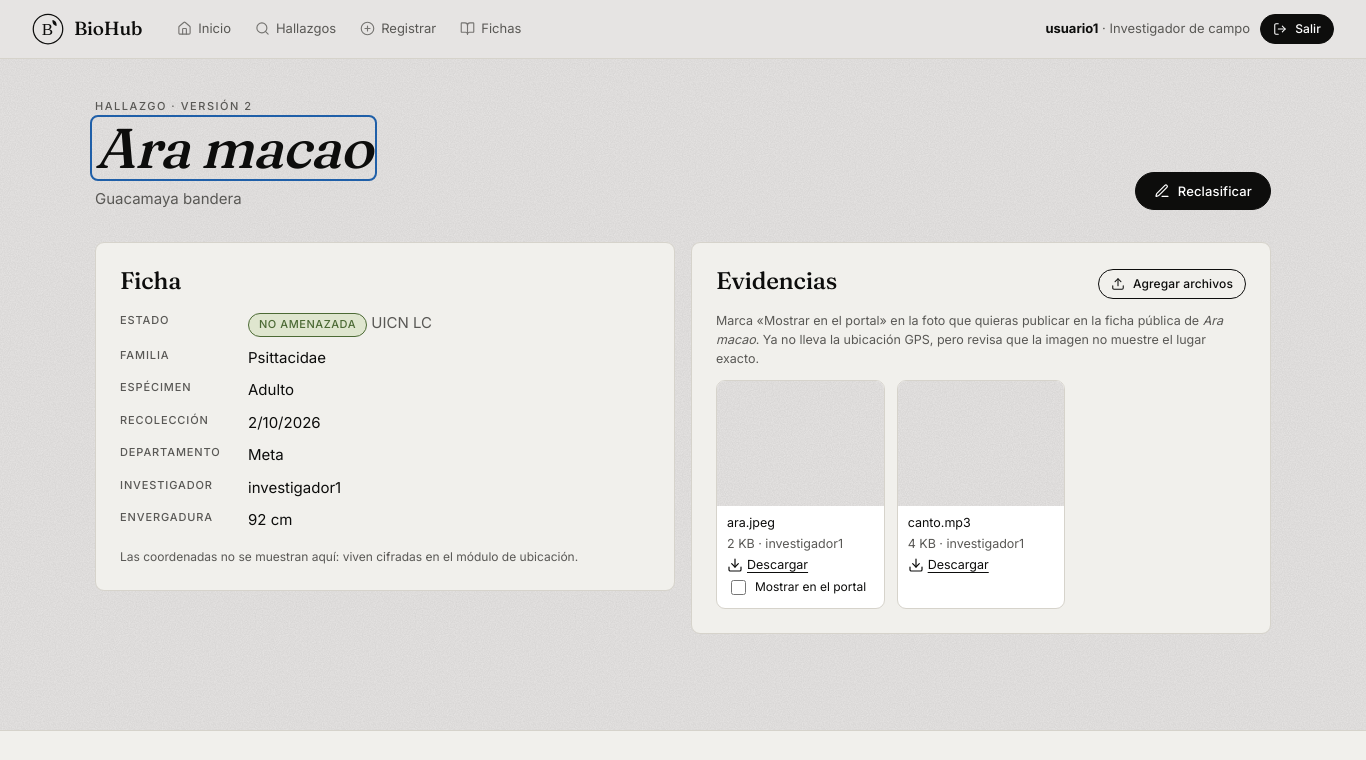
Detalle del hallazgo › quien registra decide qué foto sale en el portal; un audio no tiene esa opción (D65)
The image size is (1366, 760).
Click the checkbox labelled "Mostrar en el portal".
click(738, 587)  # box [731,580,746,595]
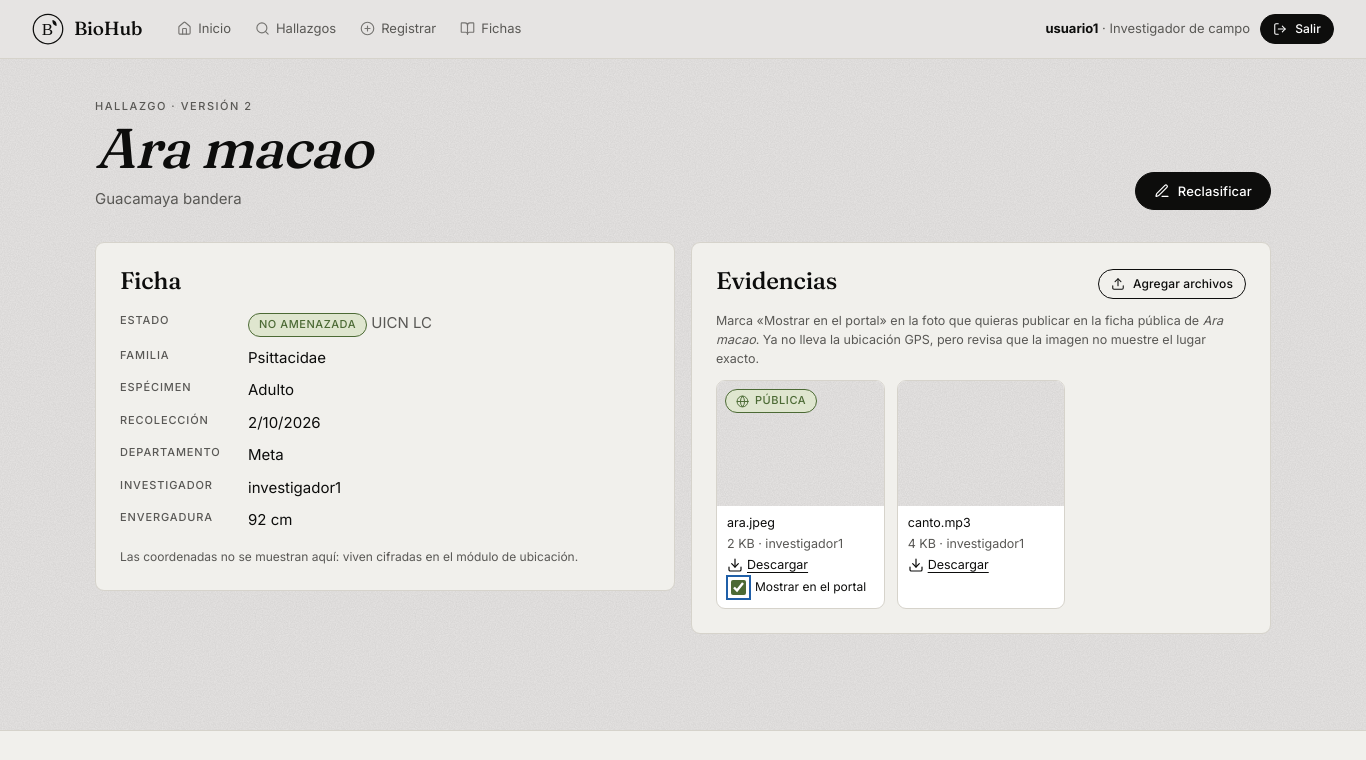
Now the text "Pública" is shown, box [725,389,817,413]
